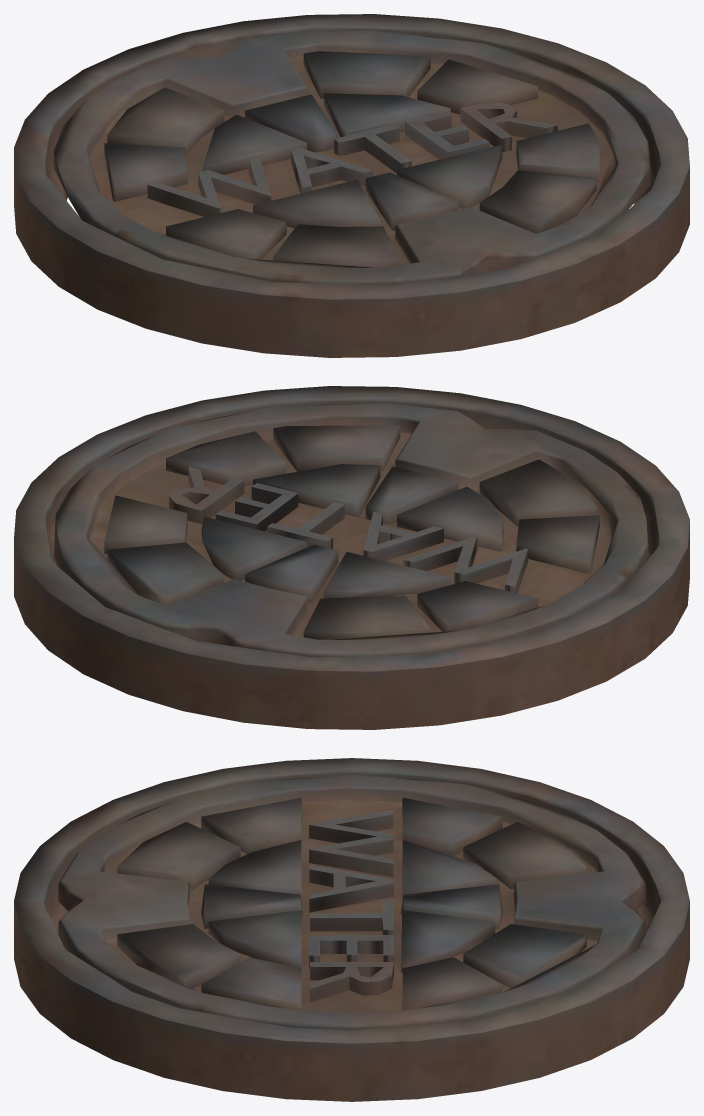
Rendered from manhole-cover.glb.
3 views of the same model, one above another, from view 1: azimuth 30°, elevation 25°; view 2: azimuth 150°, elevation 25°; view 3: azimuth 270°, elevation 25° (orthographic).
Visible parts, largest first — view 1: water_manhole_cover_frame; view 2: water_manhole_cover_frame; view 3: water_manhole_cover_frame.
Boxes of the visible parts, left/top/right/bottom form: water_manhole_cover_frame: left=14, top=14, right=689, bottom=357; water_manhole_cover_frame: left=14, top=386, right=689, bottom=729; water_manhole_cover_frame: left=14, top=758, right=689, bottom=1101.
Size of the model in its own units: 0.6908 by 0.0676 by 0.6908.
Materials: 1 (1 with a texture image).
